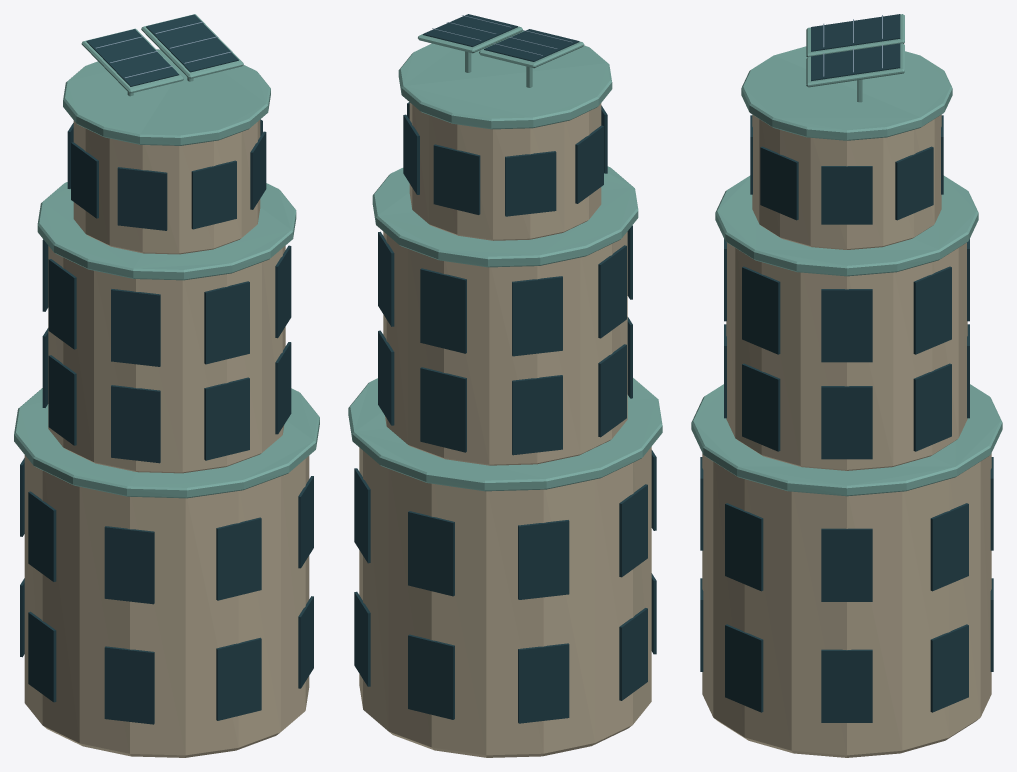
File: city_terrace_tower.glb
3 renders of one model, left to right at view 1: azimuth 30°, elevation 25°; view 2: azimuth 150°, elevation 25°; view 3: azimuth 270°, elevation 25°, orthographic. The views are drawn at different scales.
Visible parts, largest first — view 1: city_terrace_tower; view 2: city_terrace_tower; view 3: city_terrace_tower.
Part boxes in pixels (left/top/right/bottom): city_terrace_tower: left=14, top=14, right=319, bottom=757; city_terrace_tower: left=348, top=14, right=662, bottom=757; city_terrace_tower: left=691, top=14, right=1002, bottom=757.
Bounding box in the file's own units: 4.3 × 10.04 × 4.3.
